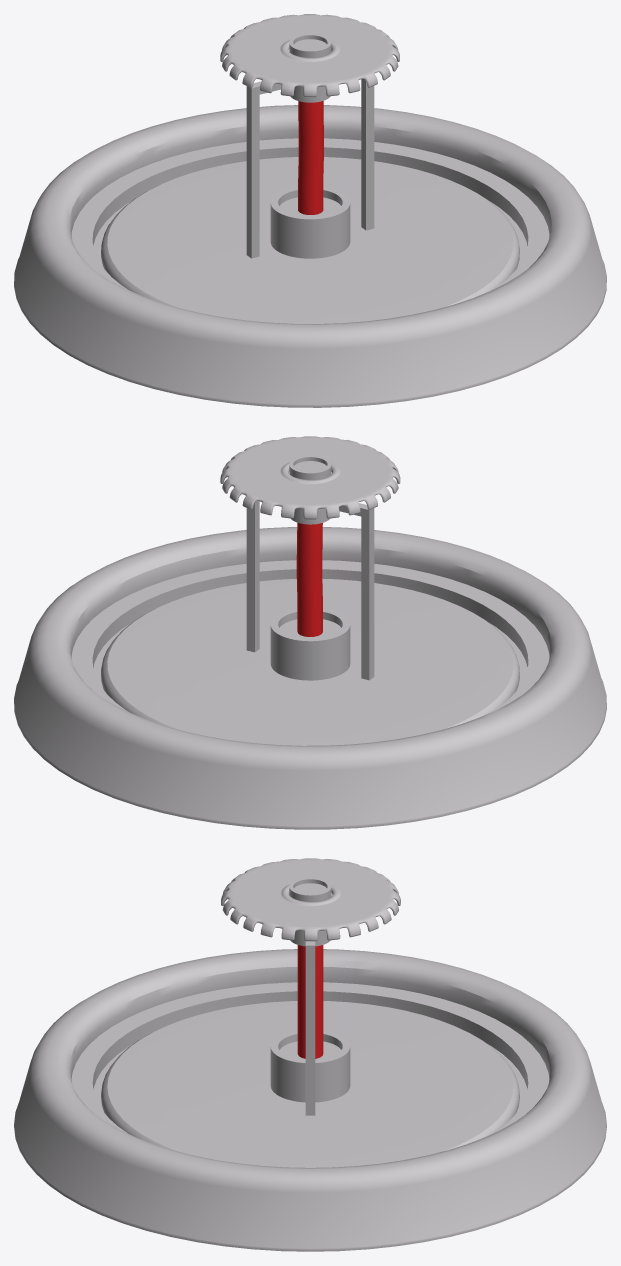
The picture shows the model from 3 angles, top to bottom: view 1: azimuth 30°, elevation 25°; view 2: azimuth 150°, elevation 25°; view 3: azimuth 270°, elevation 25°; orthographic projection.
Parts seen in each view (by area): view 1: Sprinkler; view 2: Sprinkler; view 3: Sprinkler.
Part boxes in pixels (bbox=[...]): Sprinkler: bbox=[14, 14, 606, 407]; Sprinkler: bbox=[14, 436, 606, 829]; Sprinkler: bbox=[14, 858, 606, 1251].
Bounding box in the file's own units: 0.0864 × 0.0386 × 0.0864.
